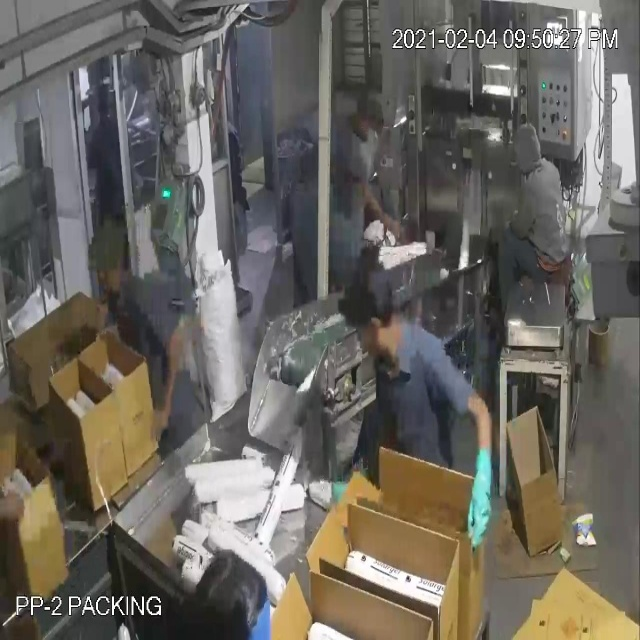Guantes: (461, 422, 501, 563)
Sin_guantes: (148, 319, 183, 437), (355, 176, 406, 253), (0, 479, 31, 528)
